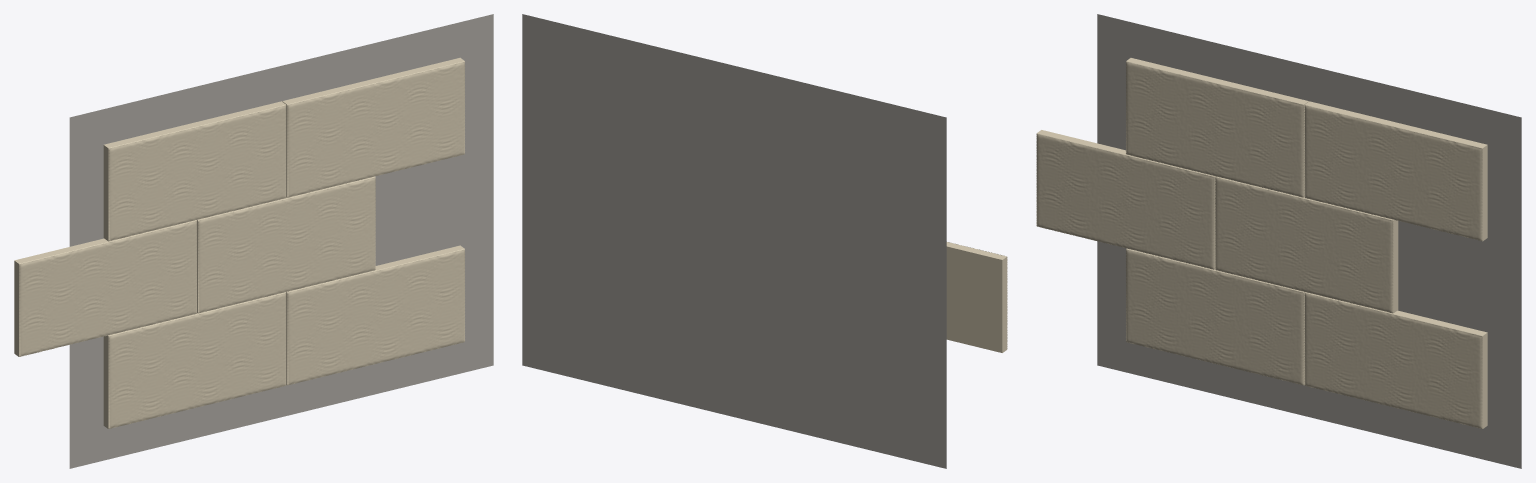
Rendered from terilgan.glb.
The picture shows the model from 3 angles, left to right: view 1: azimuth 30°, elevation 25°; view 2: azimuth 150°, elevation 25°; view 3: azimuth 330°, elevation 25°; orthographic projection.
Visible parts, largest first — view 1: Plane, t2_0, t1_0, t2_1, t0_0, t0_1, t1_1; view 2: Plane, t1_0; view 3: Plane, t2_1, t0_1, t2_0, t1_1, t1_0, t0_0.
Boxes of the visible parts, x1,y1,x2,y2 form: Plane: [69, 14, 493, 468]; t2_0: [103, 101, 286, 241]; t1_0: [14, 220, 196, 356]; t2_1: [282, 57, 464, 197]; t0_0: [103, 292, 286, 428]; t0_1: [286, 245, 464, 385]; t1_1: [197, 176, 375, 313]; Plane: [522, 14, 946, 468]; t1_0: [946, 242, 1007, 352]; Plane: [1097, 14, 1521, 468]; t2_1: [1304, 101, 1487, 241]; t0_1: [1304, 292, 1487, 428]; t2_0: [1126, 58, 1308, 197]; t1_1: [1215, 176, 1398, 313]; t1_0: [1036, 130, 1215, 269]; t0_0: [1126, 248, 1304, 385].
Size of the model in its own units: 2.16 by 1.51 by 0.0447.
